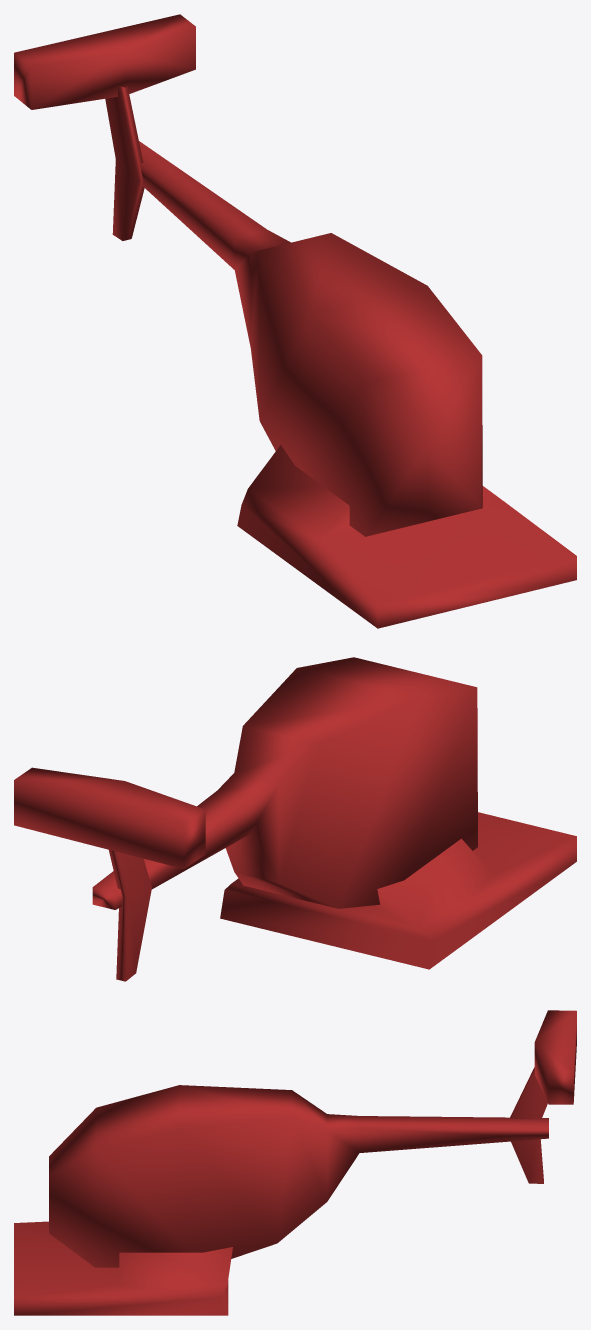
File: helicopter_hughes_colmesh.fbx
The picture shows the model from 3 angles, top to bottom: view 1: azimuth 30°, elevation 25°; view 2: azimuth 150°, elevation 25°; view 3: azimuth 270°, elevation 25°; orthographic projection. The views are drawn at different scales.
Parts seen in each view (by area): view 1: body_main; view 2: body_main; view 3: body_main.
Boxes of the visible parts, left/top/right/bottom form: body_main: left=14, top=14, right=576, bottom=628; body_main: left=14, top=657, right=576, bottom=981; body_main: left=14, top=1010, right=576, bottom=1315.
Size of the model in its own units: 164 by 240 by 526.
